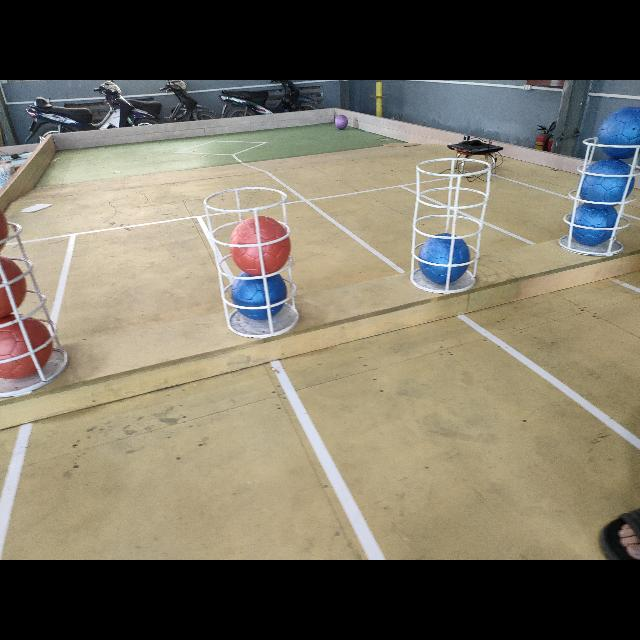B: (230, 269, 288, 321), (581, 160, 637, 210), (416, 232, 468, 282), (598, 104, 640, 160), (568, 203, 612, 244)
R: (0, 318, 54, 387), (230, 216, 288, 276), (0, 252, 26, 318), (0, 204, 10, 250)
